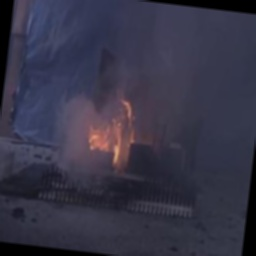fire: (82, 89, 144, 173)
